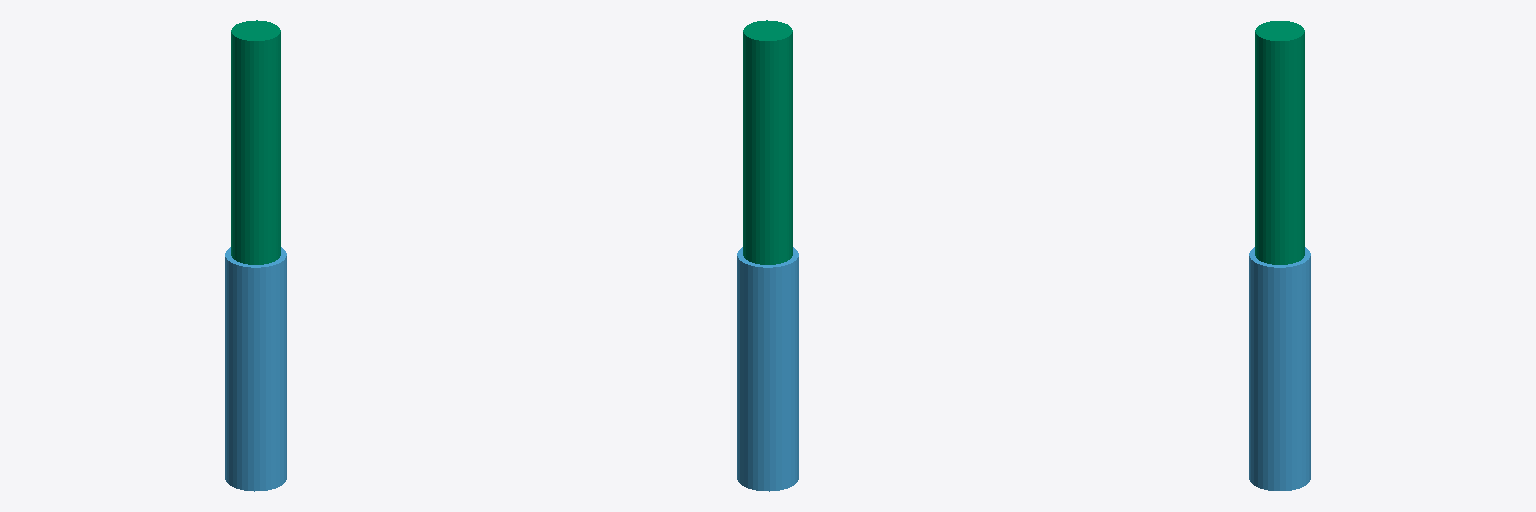
robot.urdf — two_joint_fixture:
<?xml version="1.0"?>
<robot name="two_joint_fixture">
  <link name="pedestal"/>
  <link name="upper">
    <inertial><origin xyz="0 0 0.1"/><mass value="1"/><inertia ixx="0.01" iyy="0.01" izz="0.002" ixy="0" ixz="0" iyz="0"/></inertial>
    <visual><origin xyz="0 0 0.1"/><geometry><cylinder radius="0.025" length="0.2"/></geometry></visual>
    <collision><origin xyz="0 0 0.1"/><geometry><cylinder radius="0.025" length="0.2"/></geometry></collision>
  </link>
  <joint name="hinge_a" type="revolute"><parent link="pedestal"/><child link="upper"/><axis xyz="0 1 0"/><limit lower="-1.5" upper="1.5" effort="10" velocity="2"/></joint>
  <link name="tip">
    <inertial><origin xyz="0 0 0.1"/><mass value="0.5"/><inertia ixx="0.005" iyy="0.005" izz="0.001" ixy="0" ixz="0" iyz="0"/></inertial>
    <visual><origin xyz="0 0 0.1"/><geometry><cylinder radius="0.02" length="0.2"/></geometry></visual>
    <collision><origin xyz="0 0 0.1"/><geometry><cylinder radius="0.02" length="0.2"/></geometry></collision>
  </link>
  <joint name="hinge_b" type="revolute"><origin xyz="0 0 0.2"/><parent link="upper"/><child link="tip"/><axis xyz="0 1 0"/><limit lower="-1.5" upper="1.5" effort="10" velocity="2"/></joint>
</robot>

--- Facts derived from the render (not from the file) ---
3 views of the same robot in one strip: view 1: azimuth 30°, elevation 25°; view 2: azimuth 150°, elevation 25°; view 3: azimuth 270°, elevation 25° (orthographic).
Model two_joint_fixture with 3 links and 2 joints (2 revolute), rooted at pedestal, posed all joints at 0.
Visible links, largest first — view 1: upper, tip; view 2: upper, tip; view 3: upper, tip.
Boxes of the visible links, bbox=[...] form: upper: bbox=[225, 247, 286, 491]; tip: bbox=[231, 20, 280, 264]; upper: bbox=[737, 247, 798, 491]; tip: bbox=[743, 20, 792, 264]; upper: bbox=[1249, 247, 1310, 490]; tip: bbox=[1255, 21, 1304, 264].
Size in the robot's own frame: 0.05 by 0.05 by 0.4 metres.
Geometry: primitives only (box / cylinder / sphere), no mesh files.
